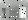person: (20, 8, 27, 19), (4, 9, 10, 19)
